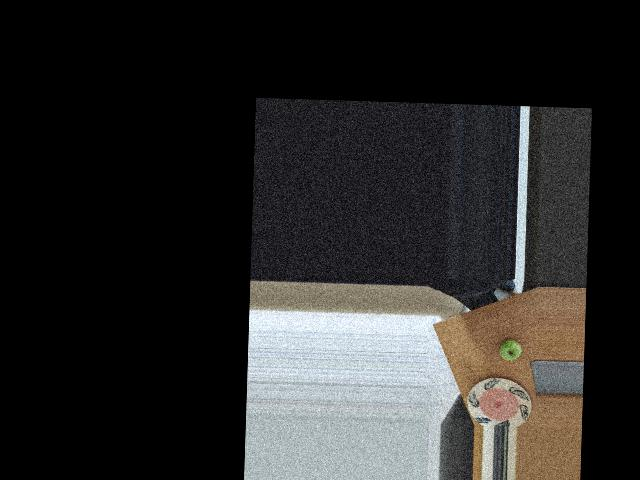apple: (495, 334, 522, 362)
